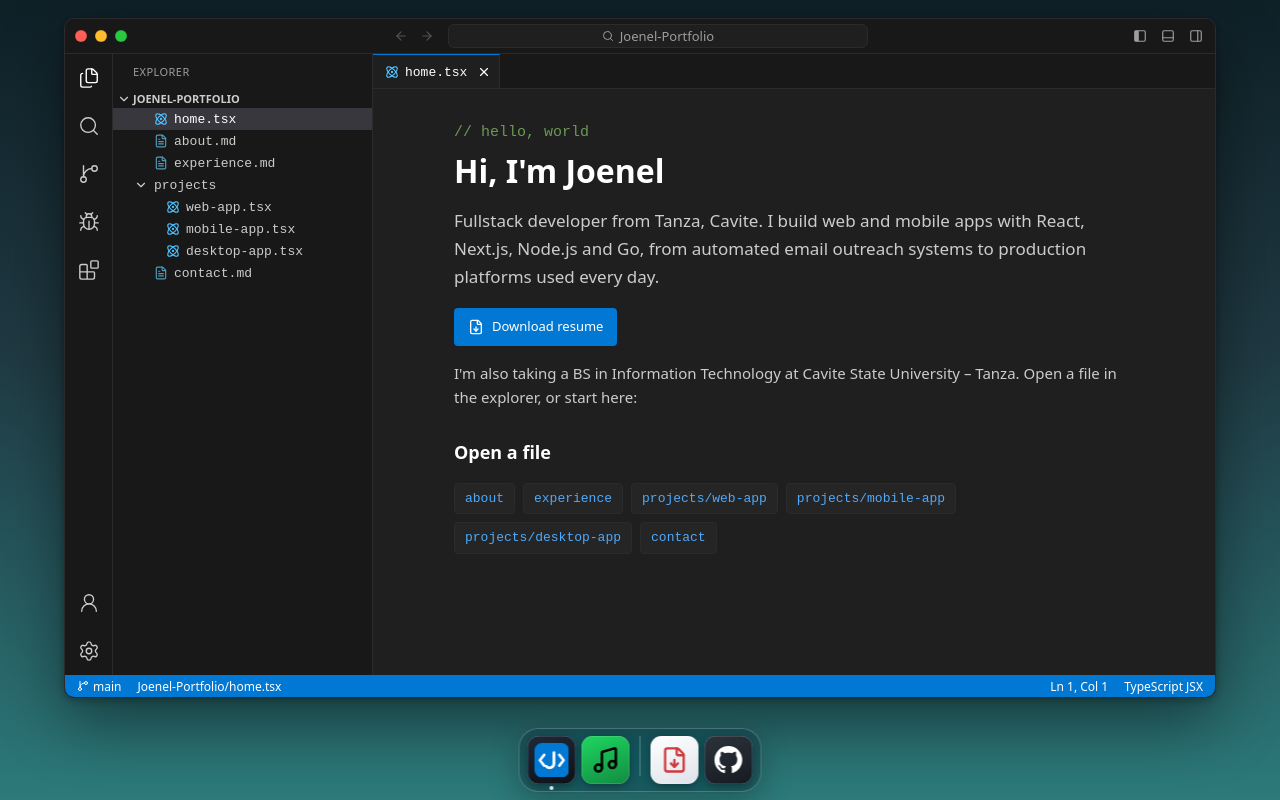
it: EditorWindow (desktop) › projects folder toggles
Click the list item "projects" at (175, 185), box [134,178,216,192]
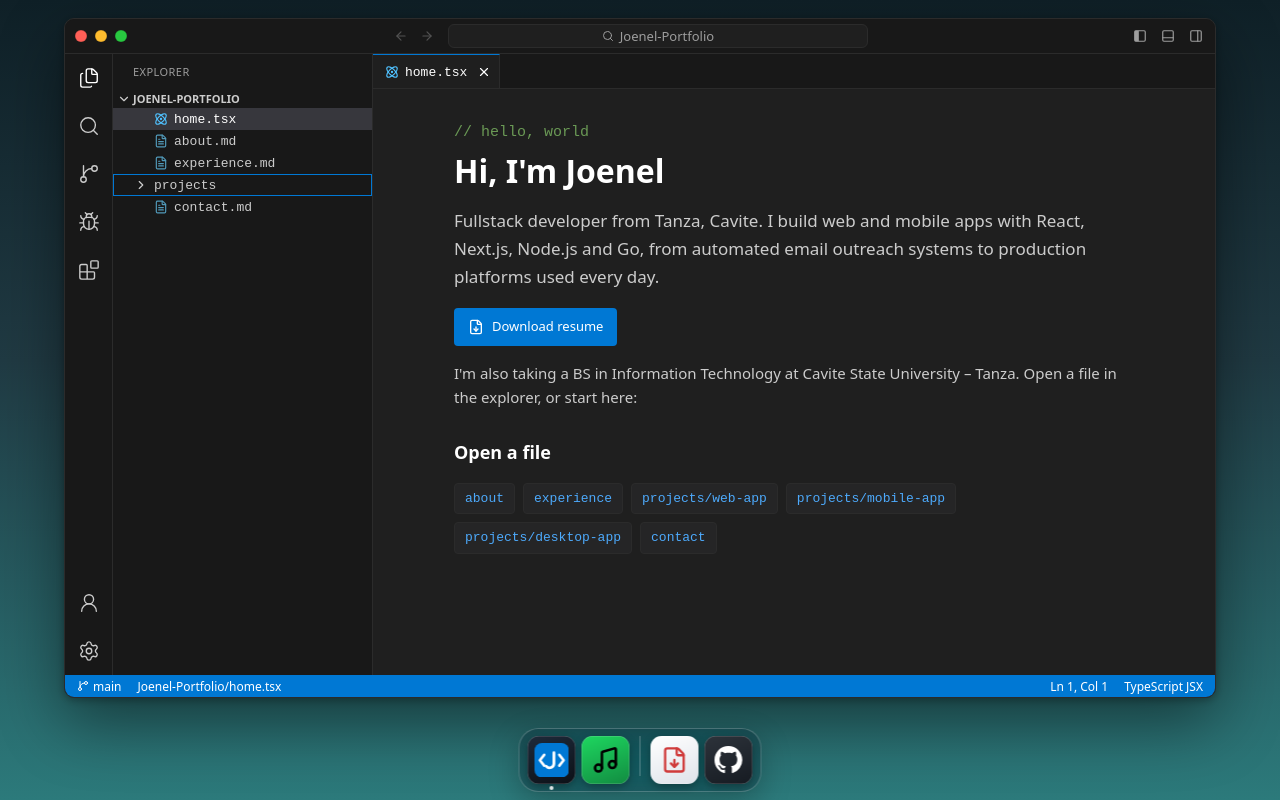
Now the text "web-app.tsx" is gone
Now the list item "projects" is collapsed
Click the list item "projects" at (242, 185), box [113,174,372,196]
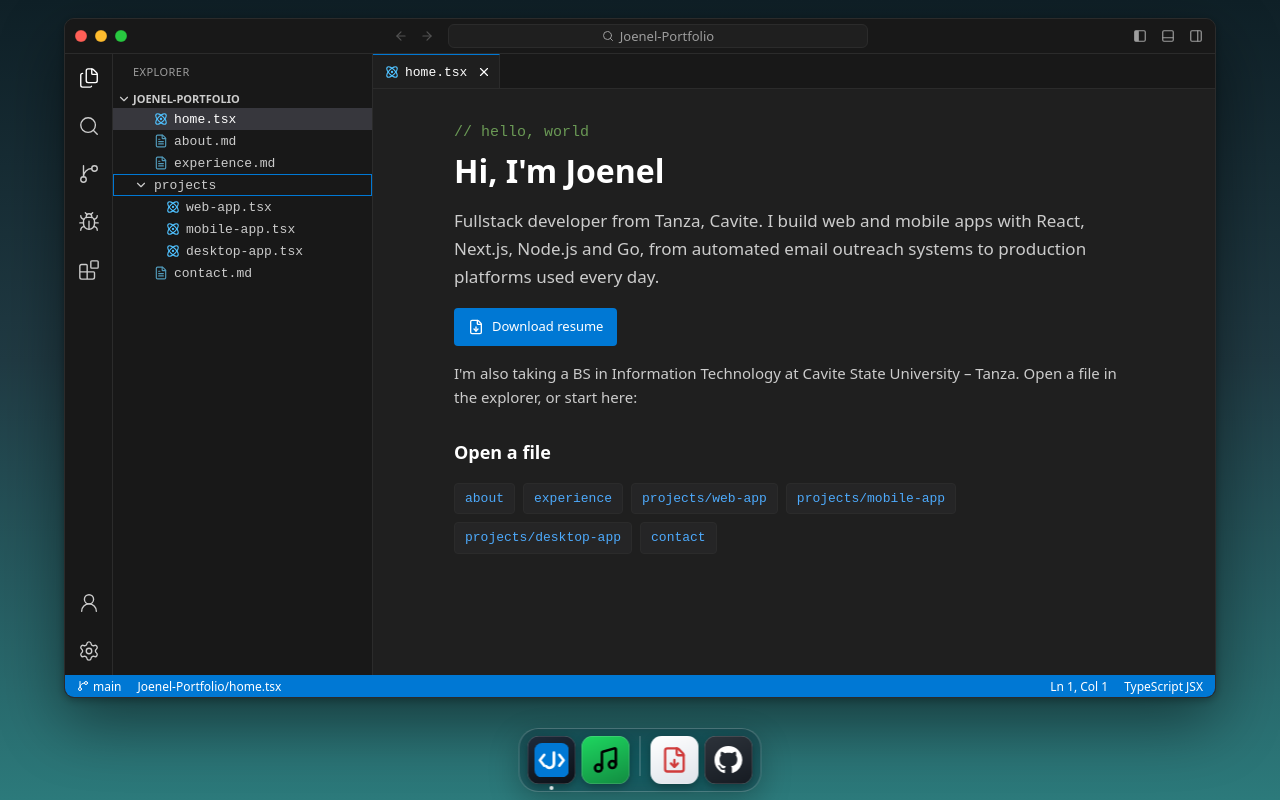
Now the list item "web-app.tsx" is shown, box [166,200,272,214]
